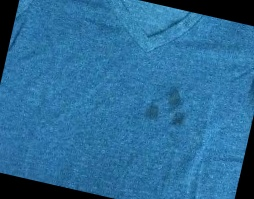oil: (141, 82, 191, 130)
